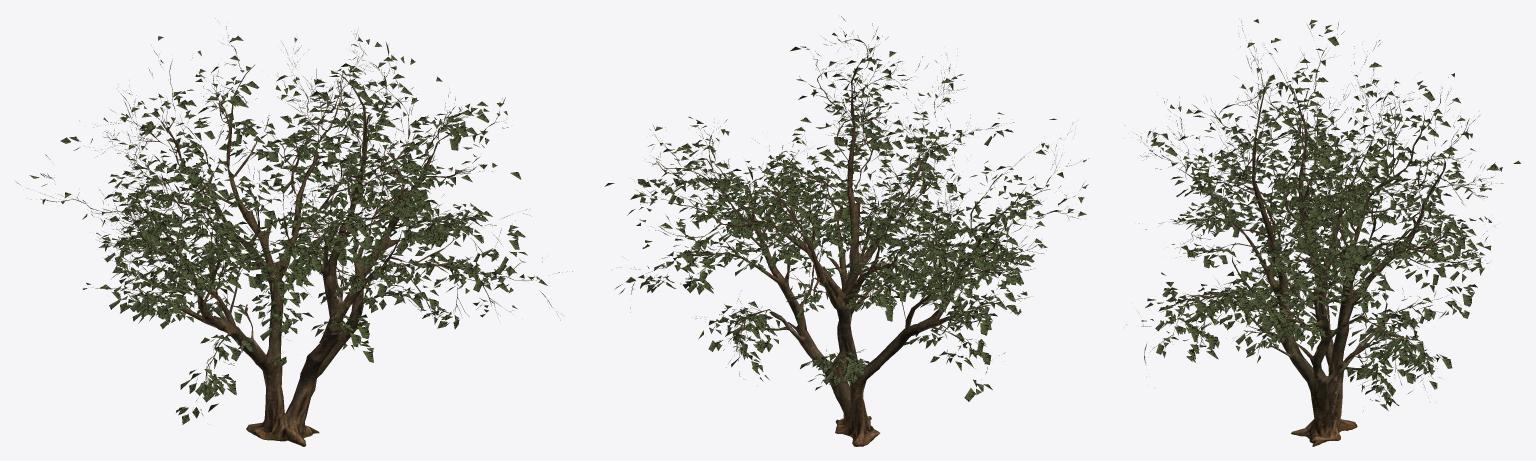
Rendered from jacaranda.glb.
The picture shows the model from 3 angles, left to right: view 1: azimuth 30°, elevation 25°; view 2: azimuth 150°, elevation 25°; view 3: azimuth 270°, elevation 25°; orthographic projection. The views are drawn at different scales.
Parts seen in each view (by area): view 1: LOD0; view 2: LOD0; view 3: LOD0.
Part boxes in pixels (<box>): LOD0: <box>15,18,572,446</box>; LOD0: <box>604,16,1088,446</box>; LOD0: <box>1125,19,1520,446</box>.
Size of what is drawn, in the model's own units: 23.49 by 19.33 by 18.21.
Materials: 3 (3 with a texture image).
